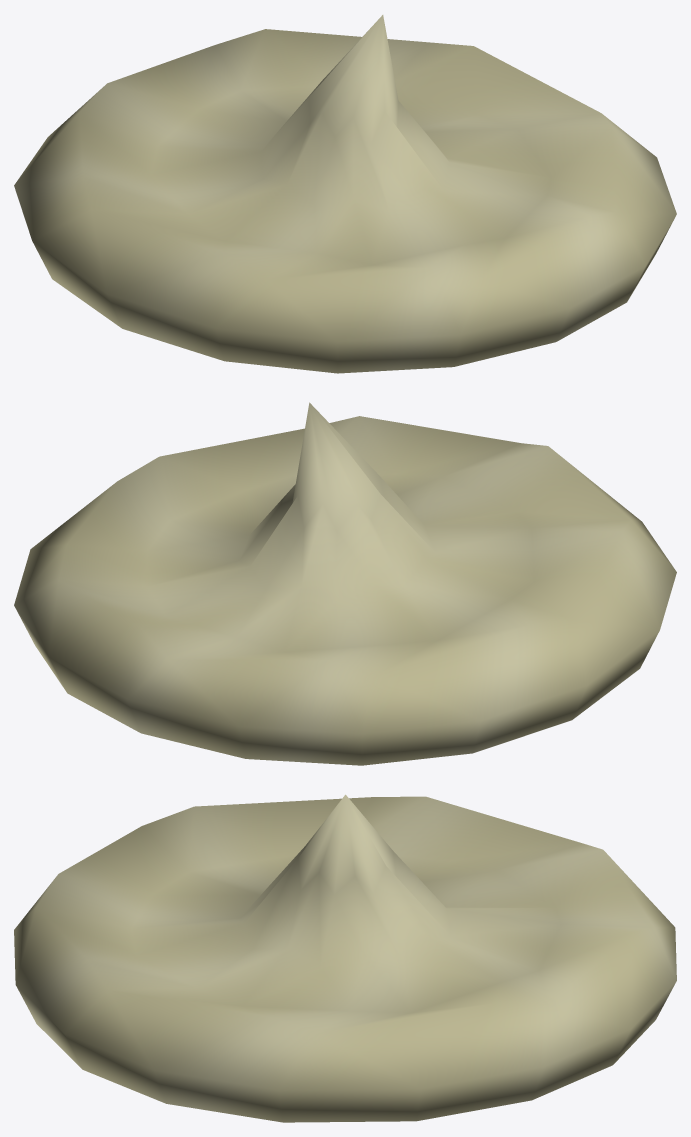
The model's file is CreamOnHand.fbx.
The picture shows the model from 3 angles, top to bottom: view 1: azimuth 30°, elevation 25°; view 2: azimuth 150°, elevation 25°; view 3: azimuth 270°, elevation 25°; orthographic projection.
Parts seen in each view (by area): view 1: Cream.004; view 2: Cream.004; view 3: Cream.004.
Boxes of the visible parts, left/top/right/bottom form: Cream.004: left=14, top=15, right=676, bottom=373; Cream.004: left=14, top=402, right=676, bottom=765; Cream.004: left=14, top=794, right=676, bottom=1122.
Size of the model in its own units: 67.51 by 28.22 by 69.72.
